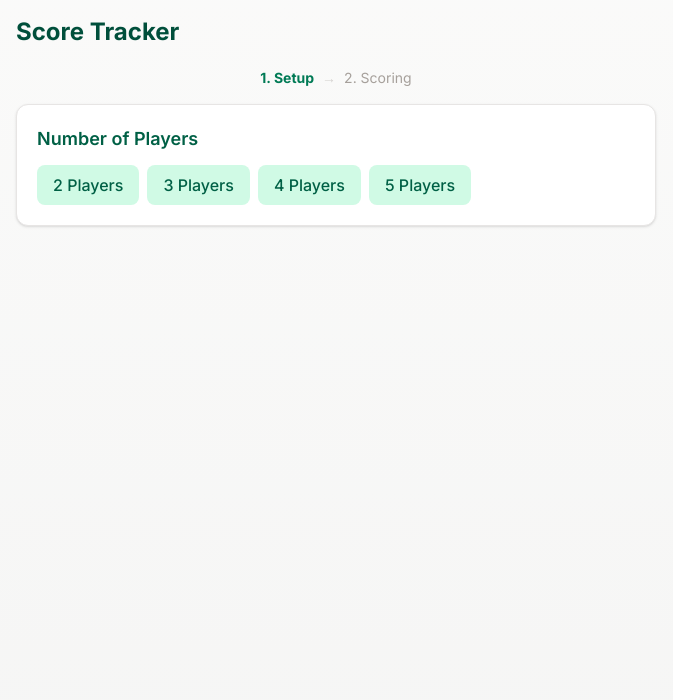
ScoreTracker › player setup › transitions to scoring phase when start scoring is clicked
Step 1. Click the button "2 Players" → click(88, 185), box x1=37 y1=165 x2=139 y2=205
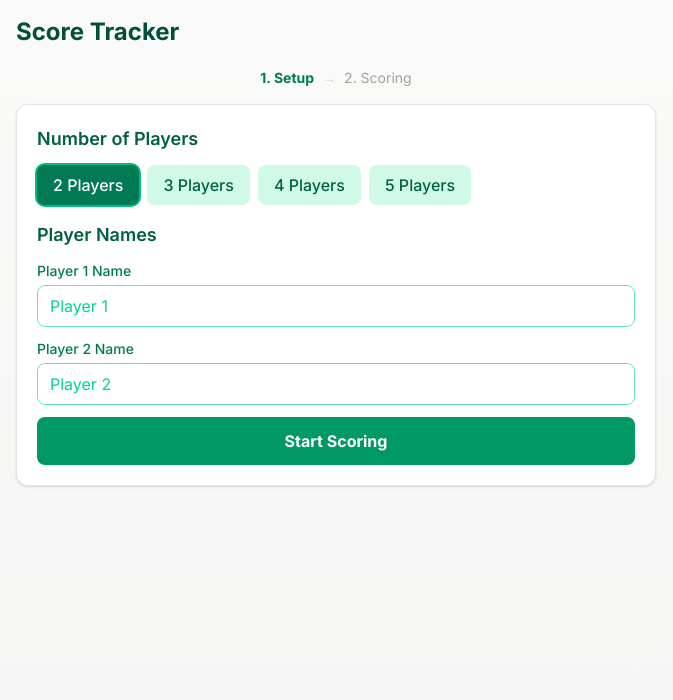
Step 2. Type "Alice" into the field labelled "Player 1 Name" → (336, 306), box x1=37 y1=285 x2=635 y2=327
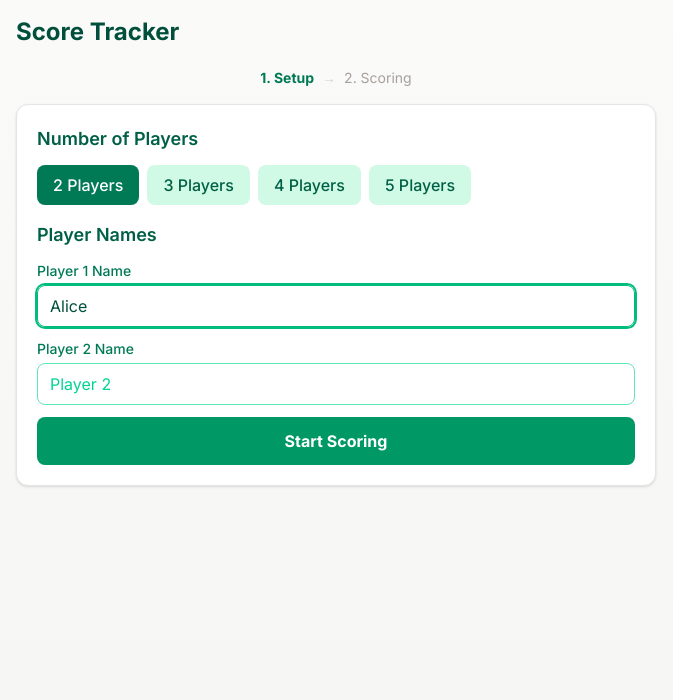
Step 3. Type "Bob" into the field labelled "Player 2 Name" → (336, 384), box x1=37 y1=363 x2=635 y2=405
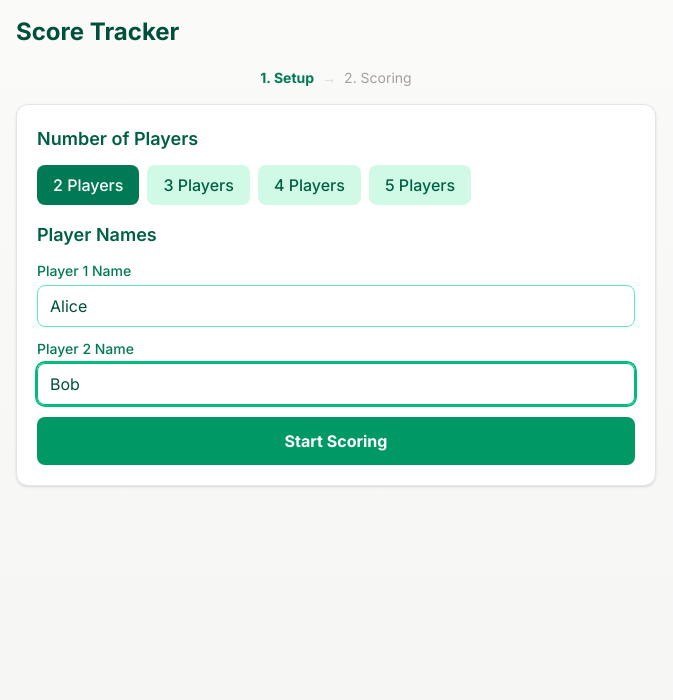
Step 4. Click the button "Start Scoring" → click(336, 441), box x1=37 y1=417 x2=635 y2=465
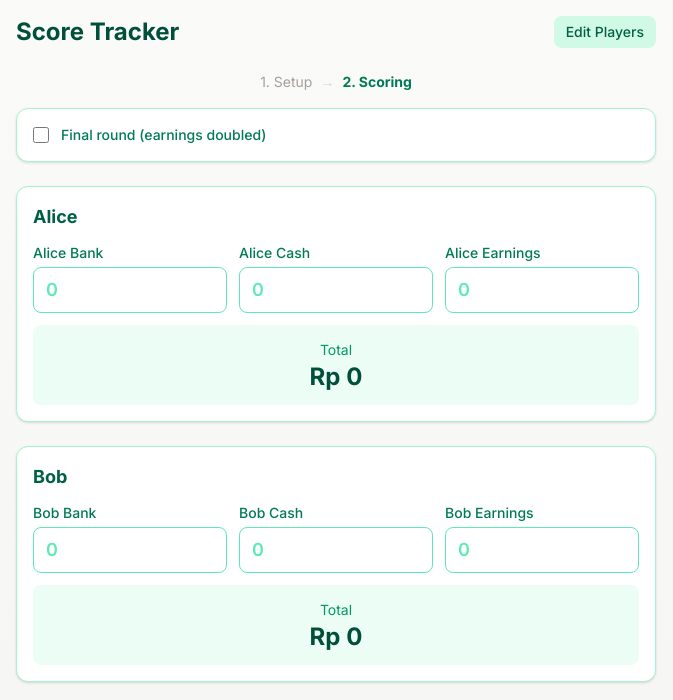
Check: the number field labelled "Alice Bank" is shown, box x1=33 y1=267 x2=227 y2=313
Check: the number field labelled "Bob Bank" is shown, box x1=33 y1=527 x2=227 y2=573
